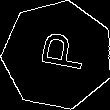P_W: (29, 33, 86, 78)
